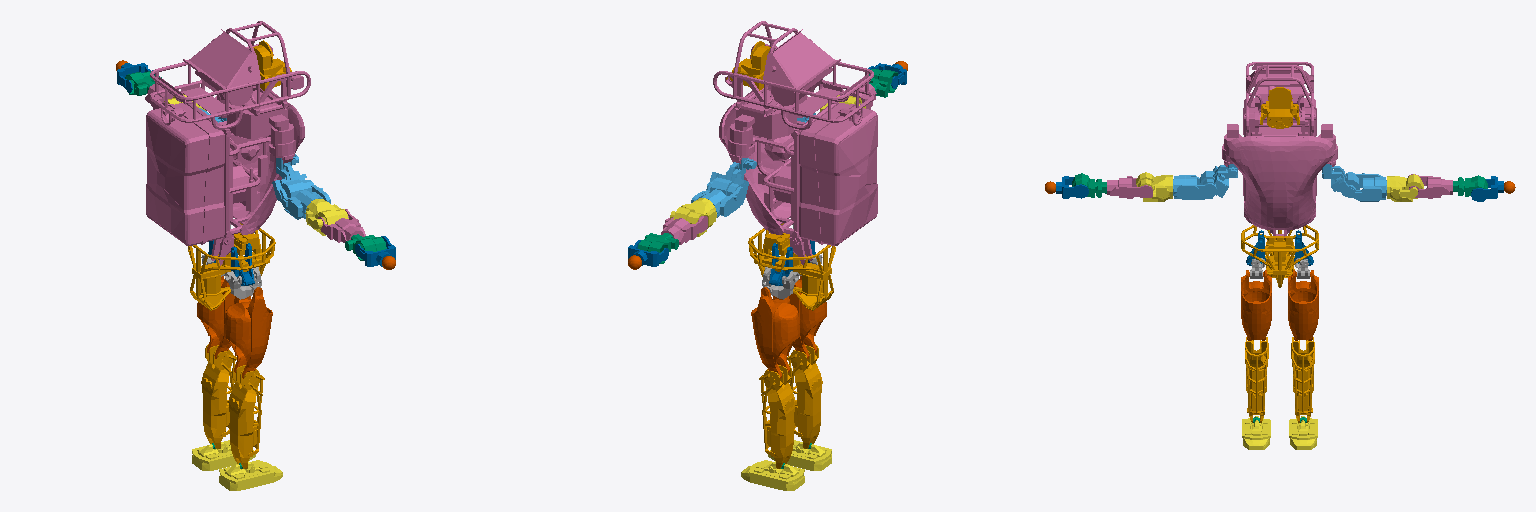
--- Facts derived from the render (not from the file) ---
The picture shows the robot from 3 angles, left to right: view 1: azimuth 30°, elevation 25°; view 2: azimuth 150°, elevation 25°; view 3: azimuth 270°, elevation 25°; orthographic projection.
Model atlas with 31 links and 30 joints (30 revolute), rooted at pelvis, posed all joints at 0.
Links seen in each view (by area): view 1: utorso, pelvis, r_uleg, r_lleg, l_lleg, r_foot, l_uleg, r_scap, l_foot, r_uarm, r_clav, head (+4 smaller); view 2: utorso, pelvis, l_uleg, l_lleg, r_lleg, l_foot, r_uleg, r_foot, l_scap, l_clav, head, l_uarm (+4 smaller); view 3: utorso, pelvis, l_uleg, r_uleg, l_lleg, r_lleg, head, l_scap, r_scap, l_foot, r_foot, l_uarm (+5 smaller).
Link boxes in pixels (x1,y1,x2,y2): utorso: (146, 21, 310, 245); pelvis: (188, 223, 275, 310); r_uleg: (224, 287, 272, 378); r_lleg: (228, 364, 264, 468); l_lleg: (201, 344, 236, 448); r_foot: (219, 460, 282, 490); l_uleg: (197, 276, 234, 358); r_scap: (272, 180, 330, 219); l_foot: (192, 440, 255, 470); r_uarm: (305, 199, 348, 235); r_clav: (276, 154, 311, 197); head: (253, 40, 291, 90); utorso: (713, 21, 877, 245); pelvis: (748, 223, 835, 310); l_uleg: (751, 287, 799, 378); l_lleg: (759, 364, 795, 468); r_lleg: (787, 344, 822, 448); l_foot: (741, 460, 804, 490); r_uleg: (789, 276, 826, 358); r_foot: (768, 440, 831, 470); l_scap: (691, 172, 745, 217); l_clav: (710, 158, 756, 197); head: (726, 41, 770, 90); l_uarm: (670, 198, 716, 236); utorso: (1222, 62, 1337, 229); pelvis: (1241, 225, 1318, 287); l_uleg: (1288, 270, 1318, 340); r_uleg: (1241, 270, 1271, 340); l_lleg: (1291, 337, 1314, 422); r_lleg: (1245, 337, 1268, 422); head: (1260, 87, 1299, 128); l_scap: (1339, 172, 1386, 201); r_scap: (1173, 166, 1217, 199); l_foot: (1289, 416, 1317, 449); r_foot: (1242, 416, 1270, 449); l_uarm: (1387, 174, 1423, 201).
Bounding box of the posed robot: 0.6238 × 2.26 × 1.98 m (x, y, z).
Meshes: 23 distinct files referenced, 29 mesh visuals loaded (23 Collada DAE).

robot.urdf — atlas:
<?xml version="1.0"?>
<robot name="atlas">

<!-- head from multisense_sl_v4.urdf -->

  <link name="head">
    <inertial>
      <origin xyz="-0.075493 3.3383E-05 0.02774" rpy="0 0 0" />
      <mass value="1.41984" />
      <inertia iyy="0.0041178" ixy="-1.5797E-06" iyz="-6.8415E-07" ixx="0.0039688" ixz="-0.00089293" izz="0.0035243" />
    </inertial>
    <visual>
      <origin xyz="0 0 0" rpy="0 0 0" />
      <geometry>
        <mesh filename="package://meshes/head.dae" />
      </geometry>
    </visual>
  <collision>
    <origin xyz="-0.0503 0 -0.00195" rpy="0 0 0" />
    <geometry>
      <box size="0.1311 0.12 0.0591"/>
    </geometry>
  </collision>
  <collision>
    <origin xyz="-0.093 0 0.0868" rpy="0 0 0" />
    <geometry>
      <box size="0.0468 0.12 0.1184"/>
    </geometry>
  </collision>
  </link>



<!-- from atlas_v4_simple_shapes.urdf -->

  <link name="l_clav">
    <inertial>
      <mass value="4.466"/>
      <origin rpy="0 -0 0" xyz="0 -0.048 -0.084"/>
      <inertia ixx="0.011" ixy="0" ixz="0" iyy="0.009" iyz="0.004" izz="0.004"/>
    </inertial>
    <visual>
      <geometry>
        <mesh filename="package://meshes/r_clav.dae" scale="1 1 1"/>
      </geometry>
    </visual>
    <collision>
      <origin rpy="0 1.5707963267949 0" xyz="0 -0.11 -0.248"/>
      <geometry>
        <cylinder length="0.1525" radius="0.0555"/>
      </geometry>
    </collision>
    <collision>
      <origin rpy="0 0 0" xyz="0.005 -0.015 -0.08"/>
      <geometry>
        <cylinder length="0.26" radius="0.067"/>
      </geometry>
    </collision>
    <collision>
      <origin rpy="1.05 0 0" xyz="0.004 -0.064 -0.247"/>
      <geometry>
        <box size="0.1 0.07 0.072"/>
      </geometry>
    </collision>
  </link>
  <link name="l_ufarm">
    <inertial>
      <mass value="4.386"/>
      <origin rpy="0 -0 0" xyz="0 0.065 0"/>
      <inertia ixx="0.00656" ixy="0" ixz="0" iyy="0.00358" iyz="0" izz="0.00656"/>
    </inertial>
    <visual>
      <geometry>
        <mesh filename="package://meshes/r_farm.dae" scale="1 1 1"/>
      </geometry>
    </visual>
    <collision>
      <origin rpy="0 1.5708 0" xyz="0.0 -0.13 0.004"/>
      <geometry>
        <cylinder length="0.125" radius="0.045"/>
      </geometry>
    </collision>
    <collision>
      <origin rpy="0 0 0" xyz="0.001 -0.053 -0.002"/>
      <geometry>
        <box size="0.135 0.1 0.045"/>
      </geometry>
    </collision>
  </link>
  <link name="l_foot">
    <inertial>
      <mass value="2.41"/>
      <origin rpy="0 -0 0" xyz="0.027 0 -0.067"/>
      <inertia ixx="0.002" ixy="0" ixz="0" iyy="0.007" iyz="0" izz="0.008"/>
    </inertial>
    <visual>
      <geometry>
        <mesh filename="package://meshes/l_foot.dae" scale="1 1 1"/>
      </geometry>
    </visual>
    <collision>
      <origin rpy="0 0 0" xyz="0.023 0 -0.049119"/>
      <geometry>
        <box size="0.227 0.133887 0.05"/>
      </geometry>
    </collision>
    <collision>
      <origin rpy="0 0 0" xyz="0.1225 0 -0.0641"/>
      <geometry>
        <box size="0.1 0.08 0.02"/>
      </geometry>
    </collision>
  </link>
  <link name="l_lfarm">
    <inertial>
      <mass value="2.509"/>
      <origin rpy="0 -0 0" xyz="0 0 0"/>
      <inertia ixx="0.00265" ixy="0" ixz="0" iyy="0.00446" iyz="0" izz="0.00446"/>
    </inertial>
    <visual>
      <geometry>
        <mesh filename="package://meshes/r_hand.dae" scale="1 1 1"/>
      </geometry>
      <origin rpy="0 3.14159265359 0" xyz="0 0 0"/>
    </visual>
    <collision>
      <origin rpy="1.5707963267949 0 0" xyz="0.001 -0.1 -0.01"/>
      <geometry>
        <cylinder length="0.05" radius="0.03"/>
      </geometry>
    </collision>
    <collision>
      <origin rpy="0 0 0" xyz="0.001 -0.05 -0.01"/>
      <geometry>
        <box size="0.13 0.09 0.07"/>
      </geometry>
    </collision>
  </link>
  <link name="l_hand">
    <inertial>
      <mass value="1.0"/><!-- some mass required here for simulation stability -->
      <origin rpy="0 0 0" xyz="0 0 0"/>
      <inertia ixx="0.0001" ixy="0" ixz="0" iyy="0.0001" iyz="0" izz="0.0001"/>
    </inertial>
    <visual>
      <origin rpy="0 0 0" xyz="0 -0.15 0.01"/>
      <geometry>
        <sphere radius="0.03"/>
      </geometry>
    </visual>
    <collision>
      <origin rpy="0 0 0" xyz="0 -0.15 0.01"/>
      <geometry>
        <sphere radius="0.03"/>
      </geometry>
    </collision>
  </link>
  <link name="l_larm">
    <inertial>
      <mass value="3.248"/>
      <origin rpy="0 -0 0" xyz="0 0 0"/>
      <inertia ixx="0.00265" ixy="0" ixz="0" iyy="0.00446" iyz="0" izz="0.00446"/>
    </inertial>
    <visual>
      <geometry>
        <mesh filename="package://meshes/r_larm.dae" scale="1 1 1"/>
      </geometry>
    </visual>
    <collision>
      <origin rpy="1.5707963267949 0 0" xyz="0.001 -0.127 0.00"/>
      <geometry>
        <cylinder length="0.125" radius="0.045"/>
      </geometry>
    </collision>
    <collision>
      <origin rpy="0 0 0" xyz="0.001 -0.051 0.0"/>
      <geometry>
        <box size="0.135 0.15 0.06"/>
      </geometry>
    </collision>
  </link>
  <link name="l_lglut">
    <inertial>
      <mass value="0.898"/>
      <origin rpy="0 -0 0" xyz="0.0133341 0.0170484 -0.0312052"/>
      <inertia ixx="0.000691326" ixy="-2.24344e-05" ixz="2.50508e-06" iyy="0.00126856" iyz="0.000137862" izz="0.00106487"/>
    </inertial>
    <visual>
      <geometry>
        <mesh filename="package://meshes/l_lglut.dae" scale="1 1 1"/>
      </geometry>
    </visual>
    <collision>
      <origin rpy="0 0 0" xyz="0.015 0.026 -0.028"/>
      <geometry>
        <box size="0.125 0.05 0.08"/>
      </geometry>
    </collision>
    <collision>
      <origin rpy="1.5707963267949 0 0" xyz="0.05 0.027488 -0.067"/>
      <geometry>
        <cylinder length="0.060306" radius="0.02009687"/>
      </geometry>
    </collision>
    <collision>
      <origin rpy="0 1.5707963267949 0" xyz="0.0115 0 0"/>
      <geometry>
        <cylinder length="0.144" radius="0.02"/>
      </geometry>
    </collision>
  </link>
  <link name="l_lleg">
    <inertial>
      <mass value="4.515"/>
      <origin rpy="0 -0 0" xyz="0.001 0 -0.187"/>
      <inertia ixx="0.077" ixy="0" ixz="-0.003" iyy="0.076" iyz="0" izz="0.01"/>
    </inertial>
    <visual>
      <geometry>
        <mesh filename="package://meshes/l_lleg.dae" scale="1 1 1"/>
      </geometry>
    </visual>
    <collision>
      <origin rpy="0 0.10 0" xyz="0.02 0.00295 -0.182"/>
      <geometry>
        <cylinder length="0.40" radius="0.07"/>
      </geometry>
    </collision>
  </link>
  <link name="l_scap">
    <inertial>
      <mass value="3.899"/>
      <origin rpy="0 -0 0" xyz="0 0 0"/>
      <inertia ixx="0.00319" ixy="0" ixz="0" iyy="0.00583" iyz="0" izz="0.00583"/>
    </inertial>
    <visual>
      <geometry>
        <mesh filename="package://meshes/r_scap.dae" scale="1 1 1"/>
      </geometry>
    </visual>
    <collision>
      <origin rpy="1.5707963267949 0 0" xyz="-0.005 -0.115 -0.014"/>
      <geometry>
        <cylinder length="0.105" radius="0.057"/>
      </geometry>
    </collision>
    <collision>
      <origin rpy="0 0 0" xyz="-0.005 -0.075 -0.015"/>
      <geometry>
        <box size="0.16 0.17 0.08"/>
      </geometry>
    </collision>
    <collision>
      <origin rpy="2.25 0 0" xyz="0.076 -0.0615 0.0128"/>
      <geometry>
        <box size="0.02 0.029 0.018"/>
      </geometry>
    </collision>
    <collision>
      <origin rpy="1 0 0" xyz="-0.075 0.015 0.019"/>
      <geometry>
        <box size="0.028 0.090 0.05"/>
      </geometry>
    </collision>
  </link>
  <link name="l_talus">
    <inertial>
      <mass value="0.125"/>
      <origin rpy="0 -0 0" xyz="0 0 0"/>
      <inertia ixx="1.01674e-05" ixy="0" ixz="0" iyy="8.42775e-06" iyz="0" izz="1.30101e-05"/>
    </inertial>
    <visual>
      <geometry>
        <mesh filename="package://meshes/l_talus.dae" scale="1 1 1"/>
      </geometry>
    </visual>
    <collision>
      <origin rpy="0 1.5707963267949 0" xyz="0 0 0"/>
      <geometry>
        <cylinder length="0.029542" radius="0.010181"/>
      </geometry>
    </collision>
    <collision>
      <origin rpy="1.5707963267949 0 0" xyz="0 0 0"/>
      <geometry>
        <cylinder length="0.010059" radius="0.010348"/>
      </geometry>
    </collision>
  </link>
  <link name="l_uarm">
    <inertial>
      <mass value="4.386"/>
      <origin rpy="0 -0 0" xyz="0 0.065 0"/>
      <inertia ixx="0.00656" ixy="0" ixz="0" iyy="0.00358" iyz="0" izz="0.00656"/>
    </inertial>
    <visual>
      <geometry>
        <mesh filename="package://meshes/r_uarm.dae" scale="1 1 1"/>
      </geometry>
    </visual>
    <collision>
      <origin rpy="1.5708 0 0" xyz="0.0 -0.035 0.00"/>
      <geometry>
        <cylinder length="0.11" radius="0.065"/>
      </geometry>
    </collision>
    <collision>
      <origin rpy="0 1.5708 0" xyz="-0.005 -0.111 0.017"/>
      <geometry>
        <cylinder length="0.142" radius="0.047"/>
      </geometry>
    </collision>
    <collision>
      <origin rpy="0 1.5707963267949 0" xyz="-0.001 -0.043 0.01"/>
      <geometry>
        <box size="0.05 0.07 0.15"/>
      </geometry>
    </collision>
  </link>
  <link name="l_uglut">
    <inertial>
      <mass value="1.959"/>
      <origin rpy="0 -0 0" xyz="0.00529262 -0.00344732 0.00313046"/>
      <inertia ixx="0.00074276" ixy="-3.79607e-08" ixz="-2.79549e-05" iyy="0.000688179" iyz="-3.2735e-08" izz="0.00041242"/>
    </inertial>
    <visual>
      <geometry>
        <mesh filename="package://meshes/l_uglut.dae" scale="1 1 1"/>
      </geometry>
    </visual>
    <collision>
      <origin rpy="0.52539 0 0" xyz="0.01 0.005 0"/>
      <geometry>
        <box size="0.05 0.1 0.1"/>
      </geometry>
    </collision>
    <collision>
      <origin rpy="0 0 0" xyz="0 0 0"/>
      <geometry>
        <cylinder length="0.080842" radius="0.019841"/>
      </geometry>
    </collision>
  </link>
  <link name="l_uleg">
    <inertial>
      <mass value="8.204"/>
      <origin rpy="0 -0 0" xyz="0 0 -0.21"/>
      <inertia ixx="0.09" ixy="0" ixz="0" iyy="0.09" iyz="0" izz="0.02"/>
    </inertial>
    <visual>
      <geometry>
        <mesh filename="package://meshes/l_uleg.dae" scale="1 1 1"/>
      </geometry>
    </visual>
    <collision>
      <origin rpy="0 0 0" xyz="-0.0199 0.00585 -0.122"/>
      <geometry>
        <cylinder length="0.15" radius="0.09"/>
      </geometry>
    </collision>
    <collision>
      <origin rpy="0 -0.3 0" xyz="-0.032 -0.005 -0.224"/>
      <geometry>
        <cylinder length="0.15" radius="0.07"/>
      </geometry>
    </collision>
    <!-- to cover the logo shield -->
    <collision>
      <origin rpy="-0.15 0.13 0" xyz="0.003 0.015 -0.254"/>
      <geometry>
        <cylinder length="0.15" radius="0.05"/>
      </geometry>
    </collision>
    <!-- inside strut -->
    <collision>
      <origin rpy="0.0 0.0 0" xyz="-0.007 -0.053 -0.052"/>
      <geometry>
        <box size="0.07 0.038 0.15"/>
      </geometry>
    </collision>
    <!-- outside strut -->
    <collision>
      <origin rpy="0.0 0.0 0" xyz="-0.017 0.0595 -0.049"/>
      <geometry>
        <box size="0.07 0.038 0.14"/>
      </geometry>
    </collision>
  </link>
  <link name="ltorso">
    <inertial>
      <mass value="2.270"/>
      <origin rpy="0 -0 0" xyz="-0.0112984 -3.15366e-06 0.0746835"/>
      <inertia ixx="0.0039092" ixy="-5.04491e-08" ixz="-0.000342157" iyy="0.00341694" iyz="4.87119e-07" izz="0.00174492"/>
    </inertial>
    <visual>
      <geometry>
        <mesh filename="package://meshes/ltorso.dae" scale="1 1 1"/>
      </geometry>
    </visual>
    <!-- this produces unwanted self-collision -->
    <!--collision>
      <origin rpy="0 0 0" xyz="0 0 0"/>
      <geometry>
        <sphere radius="0.11"/>
      </geometry>
    </collision-->
  </link>
  <link name="mtorso">
    <inertial>
      <mass value="0.799"/>
      <origin rpy="0 -0 0" xyz="-0.00816266 -0.0131245 0.0305974"/>
      <inertia ixx="0.000454181" ixy="-6.10764e-05" ixz="3.94009e-05" iyy="0.000483282" iyz="5.27463e-05" izz="0.000444215"/>
    </inertial>
    <visual>
      <geometry>
        <mesh filename="package://meshes/mtorso.dae" scale="1 1 1"/>
      </geometry>
    </visual>
    <collision>
      <origin rpy="0 0 0" xyz="0.0 0 0.02"/>
      <geometry>
        <cylinder length="0.15" radius="0.02"/>
      </geometry>
    </collision>
  </link>
  <link name="pelvis">
    <inertial>
      <mass value="9.509"/>
      <origin rpy="0 -0 0" xyz="0.0111 0 0.0271"/>
      <inertia ixx="0.1244" ixy="0.0008" ixz="-0.0007" iyy="0.0958" iyz="-0.0005" izz="0.1167"/>
    </inertial>
    <visual>
      <geometry>
        <mesh filename="package://meshes/pelvis.dae" scale="1 1 1"/>
      </geometry>
    </visual>
    <collision>
      <origin rpy="1.5707963267949 0 0" xyz="0.046 0.0 0.01"/>
      <geometry>
        <cylinder length="0.06" radius="0.11"/>
      </geometry>
    </collision>
    <collision>
      <origin rpy="1.5707963267949 0 0" xyz="-0.03 0.0 0.01"/>
      <geometry>
        <cylinder length="0.06" radius="0.11"/>
      </geometry>
    </collision>
    <collision>
      <origin rpy="0 0 0" xyz="0.01 0.042 0.09"/>
      <geometry>
        <cylinder length="0.05" radius="0.16"/>
      </geometry>
    </collision>
    <collision>
      <origin rpy="0 0 0" xyz="0.01 -0.042 0.09"/>
      <geometry>
        <cylinder length="0.05" radius="0.16"/>
      </geometry>
    </collision>
    <collision>
      <origin rpy="0 0 0" xyz="-0.1 0 -0.02"/>
      <geometry>
        <box size="0.1 0.15 0.2"/>
      </geometry>
    </collision>
  </link>
  <link name="r_clav">
    <inertial>
      <mass value="4.466"/>
      <origin rpy="0 -0 0" xyz="0 -0.048 -0.084"/>
      <inertia ixx="0.011" ixy="0" ixz="0" iyy="0.009" iyz="0.004" izz="0.004"/>
    </inertial>
    <visual>
      <geometry>
        <mesh filename="package://meshes/r_clav.dae" scale="1 1 1"/>
      </geometry>
    </visual>
    <collision>
      <origin rpy="0 1.5707963267949 0" xyz="0 -0.11 -0.248"/>
      <geometry>
        <cylinder length="0.1525" radius="0.0555"/>
      </geometry>
    </collision>
    <collision>
      <origin rpy="0 0 0" xyz="0.005 -0.015 -0.08"/>
      <geometry>
        <cylinder length="0.26" radius="0.067"/>
      </geometry>
    </collision>
    <collision>
      <origin rpy="1.05 0 0" xyz="0.004 -0.064 -0.247"/>
      <geometry>
        <box size="0.1 0.07 0.072"/>
      </geometry>
    </collision>
  </link>
  <link name="r_ufarm">
    <inertial>
      <mass value="4.386"/>
      <origin rpy="0 -0 0" xyz="0 0.065 0"/>
      <inertia ixx="0.00656" ixy="0" ixz="0" iyy="0.00358" iyz="0" izz="0.00656"/>
    </inertial>
    <visual>
      <geometry>
        <mesh filename="package://meshes/r_farm.dae" scale="1 1 1"/>
      </geometry>
    </visual>
    <collision>
      <origin rpy="0 1.5708 0" xyz="0.0 -0.13 0.004"/>
      <geometry>
        <cylinder length="0.125" radius="0.045"/>
      </geometry>
    </collision>
    <collision>
      <origin rpy="0 0 0" xyz="0.001 -0.053 -0.002"/>
      <geometry>
        <box size="0.135 0.1 0.045"/>
      </geometry>
    </collision>
  </link>
  <link name="r_foot">
    <inertial>
      <mass value="2.41"/>
      <origin rpy="0 -0 0" xyz="0.027 0 -0.067"/>
      <inertia ixx="0.002" ixy="0" ixz="0" iyy="0.007" iyz="0" izz="0.008"/>
    </inertial>
    <visual>
      <geometry>
        <mesh filename="package://meshes/r_foot.dae" scale="1 1 1"/>
      </geometry>
    </visual>
    <collision>
      <origin rpy="0 0 0" xyz="0.023 0 -0.049119"/>
      <geometry>
        <box size="0.227 0.133887 0.05"/>
      </geometry>
    </collision>
    <collision>
      <origin rpy="0 0 0" xyz="0.1225 0 -0.0641"/>
      <geometry>
        <box size="0.1 0.08 0.02"/>
      </geometry>
    </collision>
  </link>
  <link name="r_lfarm">
    <inertial>
      <mass value="2.509"/>
      <origin rpy="0 -0 0" xyz="0 0 0"/>
      <inertia ixx="0.00265" ixy="0" ixz="0" iyy="0.00446" iyz="0" izz="0.00446"/>
    </inertial>
    <visual>
      <geometry>
        <mesh filename="package://meshes/r_hand.dae" scale="1 1 1"/>
      </geometry>
      <origin rpy="0 3.14159265359 0" xyz="0 0 0"/>
    </visual>
    <collision>
      <origin rpy="1.5707963267949 0 0" xyz="0.001 -0.1 -0.01"/>
      <geometry>
        <cylinder length="0.05" radius="0.03"/>
      </geometry>
    </collision>
    <collision>
      <origin rpy="0 0 0" xyz="0.001 -0.05 -0.01"/>
      <geometry>
        <box size="0.13 0.09 0.07"/>
      </geometry>
    </collision>
  </link>
  <link name="r_hand">
    <inertial>
      <mass value="1.0"/><!-- some mass required here for simulation stability -->
      <origin rpy="0 0 0" xyz="0 0 0"/>
      <inertia ixx="0.0001" ixy="0" ixz="0" iyy="0.0001" iyz="0" izz="0.0001"/>
    </inertial>
    <visual>
      <origin rpy="0 0 0" xyz="0 -0.15 -0.01"/>
      <geometry>
        <sphere radius="0.03"/>
      </geometry>
    </visual>
    <collision>
      <origin rpy="0 0 0" xyz="0 -0.15 -0.01"/>
      <geometry>
        <sphere radius="0.03"/>
      </geometry>
    </collision>
  </link>
  <link name="r_larm">
    <inertial>
      <mass value="3.248"/>
      <origin rpy="0 -0 0" xyz="0 0 0"/>
      <inertia ixx="0.00265" ixy="0" ixz="0" iyy="0.00446" iyz="0" izz="0.00446"/>
    </inertial>
    <visual>
      <geometry>
        <mesh filename="package://meshes/r_larm.dae" scale="1 1 1"/>
      </geometry>
    </visual>
    <collision>
      <origin rpy="1.5707963267949 0 0" xyz="0.001 -0.127 0.00"/>
      <geometry>
        <cylinder length="0.125" radius="0.045"/>
      </geometry>
    </collision>
    <collision>
      <origin rpy="0 0 0" xyz="0.001 -0.051 0.0"/>
      <geometry>
        <box size="0.135 0.15 0.06"/>
      </geometry>
    </collision>
  </link>
  <link name="r_lglut">
    <inertial>
      <mass value="0.898"/>
      <origin rpy="0 -0 0" xyz="0.0133341 -0.0170484 -0.0312052"/>
      <inertia ixx="0.000691326" ixy="2.24344e-05" ixz="2.50508e-06" iyy="0.00126856" iyz="-0.000137862" izz="0.00106487"/>
    </inertial>
    <collision>
      <origin rpy="0 0 0" xyz="0.015 -0.026 -0.028"/>
      <geometry>
        <box size="0.125 0.05 0.08"/>
      </geometry>
    </collision>
    <visual>
      <geometry>
        <mesh filename="package://meshes/r_lglut.dae" scale="1 1 1"/>
      </geometry>
    </visual>
    <collision>
      <origin rpy="1.5707963267949 0 0" xyz="0.05 -0.027488 -0.067"/>
      <geometry>
        <cylinder length="0.060306" radius="0.02009687"/>
      </geometry>
    </collision>
    <collision>
      <origin rpy="0 1.5707963267949 0" xyz="0.0105 0 0"/>
      <geometry>
        <cylinder length="0.142" radius="0.02"/>
      </geometry>
    </collision>
  </link>
  <link name="r_lleg">
    <inertial>
      <mass value="4.515"/>
      <origin rpy="0 -0 0" xyz="0.001 0 -0.187"/>
      <inertia ixx="0.077" ixy="-0" ixz="-0.003" iyy="0.076" iyz="-0" izz="0.01"/>
    </inertial>
    <visual>
      <geometry>
        <mesh filename="package://meshes/r_lleg.dae" scale="1 1 1"/>
      </geometry>
    </visual>
    <collision>
      <origin rpy="0 0.10 0" xyz="0.02 -0.00295 -0.182"/>
      <geometry>
        <cylinder length="0.40" radius="0.07"/>
      </geometry>
    </collision>
  </link>
  <link name="r_scap">
    <inertial>
      <mass value="3.899"/>
      <origin rpy="0 -0 0" xyz="0 0 0"/>
      <inertia ixx="0.00319" ixy="0" ixz="0" iyy="0.00583" iyz="0" izz="0.00583"/>
    </inertial>
    <visual>
      <geometry>
        <mesh filename="package://meshes/r_scap.dae" scale="1 1 1"/>
      </geometry>
    </visual>
    <collision>
      <origin rpy="1.5707963267949 0 0" xyz="-0.005 -0.115 -0.014"/>
      <geometry>
        <cylinder length="0.105" radius="0.057"/>
      </geometry>
    </collision>
    <collision>
      <origin rpy="0 0 0" xyz="-0.005 -0.075 -0.015"/>
      <geometry>
        <box size="0.16 0.17 0.08"/>
      </geometry>
    </collision>
    <collision>
      <origin rpy="2.25 0 0" xyz="0.076 -0.0615 0.0128"/>
      <geometry>
        <box size="0.02 0.029 0.018"/>
      </geometry>
    </collision>
    <collision>
      <origin rpy="1 0 0" xyz="-0.075 0.015 0.019"/>
      <geometry>
        <box size="0.028 0.090 0.05"/>
      </geometry>
    </collision>
  </link>
  <link name="r_talus">
    <inertial>
      <mass value="0.125"/>
      <origin rpy="0 -0 0" xyz="0 0 0"/>
      <inertia ixx="1.01674e-05" ixy="0" ixz="0" iyy="8.42775e-06" iyz="0" izz="1.30101e-05"/>
    </inertial>
    <visual>
      <geometry>
        <mesh filename="package://meshes/r_talus.dae" scale="1 1 1"/>
      </geometry>
    </visual>
    <collision>
      <origin rpy="0 1.5707963267949 0" xyz="0 0 0"/>
      <geometry>
        <cylinder length="0.029542" radius="0.010181"/>
      </geometry>
    </collision>
    <collision>
      <origin rpy="1.5707963267949 0 0" xyz="0 0 0"/>
      <geometry>
        <cylinder length="0.010059" radius="0.010348"/>
      </geometry>
    </collision>
  </link>
  <link name="r_uarm">
    <inertial>
      <mass value="4.386"/>
      <origin rpy="0 -0 0" xyz="0 0.065 0"/>
      <inertia ixx="0.00656" ixy="0" ixz="0" iyy="0.00358" iyz="0" izz="0.00656"/>
    </inertial>
    <visual>
      <geometry>
        <mesh filename="package://meshes/r_uarm.dae" scale="1 1 1"/>
      </geometry>
    </visual>
    <collision>
      <origin rpy="1.5708 0 0" xyz="0.0 -0.035 0.00"/>
      <geometry>
        <cylinder length="0.11" radius="0.065"/>
      </geometry>
    </collision>
    <collision>
      <origin rpy="0 1.5708 0" xyz="-0.005 -0.111 0.017"/>
      <geometry>
        <cylinder length="0.142" radius="0.047"/>
      </geometry>
    </collision>
    <collision>
      <origin rpy="0 1.5707963267949 0" xyz="-0.001 -0.043 0.01"/>
      <geometry>
        <box size="0.05 0.07 0.15"/>
      </geometry>
    </collision>
  </link>
  <link name="r_uglut">
    <inertial>
      <mass value="1.959"/>
      <origin rpy="0 -0 0" xyz="0.00529262 0.00344732 0.00313046"/>
      <inertia ixx="0.00074276" ixy="3.79607e-08" ixz="-2.79549e-05" iyy="0.000688179" iyz="3.2735e-08" izz="0.00041242"/>
    </inertial>
    <visual>
      <geometry>
        <mesh filename="package://meshes/r_uglut.dae" scale="1 1 1"/>
      </geometry>
    </visual>
    <collision>
      <origin rpy="-0.52539 0 0" xyz="0.01 -0.005 0"/>
      <geometry>
        <box size="0.05 0.1 0.1"/>
      </geometry>
    </collision>
    <collision>
      <origin rpy="0 0 0" xyz="0 0 0"/>
      <geometry>
        <cylinder length="0.080842" radius="0.019841"/>
      </geometry>
    </collision>
  </link>
  <link name="r_uleg">
    <inertial>
      <mass value="8.204"/>
      <origin rpy="0 -0 0" xyz="0 0 -0.21"/>
      <inertia ixx="0.09" ixy="0" ixz="0" iyy="0.09" iyz="0" izz="0.02"/>
    </inertial>
    <visual>
      <geometry>
        <mesh filename="package://meshes/r_uleg.dae" scale="1 1 1"/>
      </geometry>
    </visual>
    <collision>
      <origin rpy="0 0 0" xyz="-0.0199 -0.00585 -0.122"/>
      <geometry>
        <cylinder length="0.15" radius="0.09"/>
      </geometry>
    </collision>
    <collision>
      <origin rpy="0 -0.3 0" xyz="-0.032 0.005 -0.224"/>
      <geometry>
        <cylinder length="0.15" radius="0.07"/>
      </geometry>
    </collision>
    <!-- to cover the logo shield -->
    <collision>
      <origin rpy="0.15 0.13 0" xyz="0.003 -0.015 -0.254"/>
      <geometry>
        <cylinder length="0.15" radius="0.05"/>
      </geometry>
    </collision>
    <!-- inside strut -->
    <collision>
      <origin rpy="0.0 0.0 0" xyz="-0.007 0.053 -0.052"/>
      <geometry>
        <box size="0.07 0.038 0.15"/>
      </geometry>
    </collision>
    <!-- outside strut -->
    <collision>
      <origin rpy="0.0 0.0 0" xyz="-0.017 -0.0595 -0.049"/>
      <geometry>
        <box size="0.07 0.038 0.14"/>
      </geometry>
    </collision>
  </link>
  <!-- with backpack -->
  <link name="utorso">
    <inertial>
      <mass value="84.409"/>
      <origin rpy="0 -0 0" xyz="-0.0622 0.0023 0.3157"/>
      <inertia ixx="1.577" ixy="-0.032" ixz="0.102" iyy="1.602" iyz="0.047" izz="0.565"/>
    </inertial>
    <visual>
      <geometry>
        <mesh filename="package://meshes/utorso.dae" scale="1 1 1"/>
      </geometry>
    </visual>
    <collision>
      <origin rpy="0 0 0" xyz="-0.102 0 0.25"/>
      <geometry>
        <box size="0.4 0.35 0.5"/>
      </geometry>
    </collision>
    <collision>
      <origin rpy="0 1.5707 0" xyz="0.2 0 0.46"/>
      <geometry>
        <box size="0.13 0.50 0.10"/>
      </geometry>
    </collision>
    <collision>
      <origin rpy="0 1.7 0" xyz="0.2 0 0.285"/>
      <geometry>
        <box size="0.2 0.23 0.10"/>
      </geometry>
    </collision>
    <collision>
      <origin rpy="0 2.0 0" xyz="0.15 0 0.10"/>
      <geometry>
        <box size="0.2 0.18 0.10"/>
      </geometry>
    </collision>
    <collision>
      <origin rpy="0 0 0" xyz="-0.035 0 0.6265"/>
      <geometry>
        <box size="0.506306 0.341719 0.12"/>
      </geometry>
    </collision>
    <collision>
      <origin rpy="1.5707 0 0" xyz="0.208 0 0.8215"/>
      <geometry>
        <cylinder length="0.13" radius="0.008"/>
      </geometry>
    </collision>
    <collision>
      <origin rpy="-0.38535 0 0" xyz="0.208 -0.125 0.745"/>
      <geometry>
        <cylinder length="0.15" radius="0.008"/>
      </geometry>
    </collision>
    <collision>
      <origin rpy="0.38535 0 0" xyz="0.208 0.125 0.745"/>
      <geometry>
        <cylinder length="0.15" radius="0.008"/>
      </geometry>
    </collision>
    <collision>
      <origin rpy="-0.38535 0 0" xyz="0.063 -0.125 0.745"/>
      <geometry>
        <cylinder length="0.15" radius="0.008"/>
      </geometry>
    </collision>
    <collision>
      <origin rpy="0.38535 0 0" xyz="0.063 0.125 0.745"/>
      <geometry>
        <cylinder length="0.15" radius="0.008"/>
      </geometry>
    </collision>
    <collision>
      <origin rpy="1.5707 0 1.5707" xyz="0.14 0.06 0.8215"/>
      <geometry>
        <cylinder length="0.15" radius="0.008"/>
      </geometry>
    </collision>
    <collision>
      <origin rpy="1.5707 0 1.5707" xyz="0.14 -0.06 0.8215"/>
      <geometry>
        <cylinder length="0.15" radius="0.008"/>
      </geometry>
    </collision>
    <collision>
      <origin rpy="0 -0.65 0" xyz="-0.029 0 0.731"/>
      <geometry>
        <box size="0.2 0.25 0.01"/>
      </geometry>
    </collision>
    <collision>
      <origin rpy="1.5707 0 0" xyz="0.063 0 0.8215"/>
      <geometry>
        <cylinder length="0.13" radius="0.008"/>
      </geometry>
    </collision>
    <collision>
      <origin rpy="1.5707 0 0" xyz="0.261 0.156 0.6215"/>
      <geometry>
        <cylinder length="0.016" radius="0.055"/>
      </geometry>
    </collision>
    <collision>
      <origin rpy="1.5707 0 0" xyz="0.261 -0.156 0.6215"/>
      <geometry>
        <cylinder length="0.016" radius="0.055"/>
      </geometry>
    </collision>
  </link>
  <joint name="back_bkx" type="revolute">
    <origin rpy="0 -0 0" xyz="0 0 0.05"/>
    <axis xyz="1 0 0"/>
    <parent link="mtorso"/>
    <child link="utorso"/>
    <dynamics damping="0.1" friction="0"/>
    <limit effort="300" lower="-0.523599" upper="0.523599" velocity="12"/>
    <safety_controller k_position="100" k_velocity="100" soft_lower_limit="-10.5236" soft_upper_limit="10.5236"/>
  </joint>
  <joint name="back_bky" type="revolute">
    <origin rpy="0 -0 0" xyz="0 0 0.162"/>
    <axis xyz="0 1 0"/>
    <parent link="ltorso"/>
    <child link="mtorso"/>
    <dynamics damping="0.1" friction="0"/>
    <limit effort="445" lower="-0.219388" upper="0.538783" velocity="9"/>
    <safety_controller k_position="100" k_velocity="100" soft_lower_limit="-10.2194" soft_upper_limit="10.5388"/>
  </joint>
  <joint name="back_bkz" type="revolute">
    <origin rpy="0 -0 0" xyz="-0.0125 0 0"/>
    <axis xyz="0 0 1"/>
    <parent link="pelvis"/>
    <child link="ltorso"/>
    <dynamics damping="0.1" friction="0"/>
    <limit effort="106" lower="-0.663225" upper="0.663225" velocity="12"/>
    <safety_controller k_position="100" k_velocity="100" soft_lower_limit="-10.6632" soft_upper_limit="10.6632"/>
  </joint>
  <joint name="l_arm_elx" type="revolute">
    <origin rpy="0 -0 0" xyz="0 -0.119 0.0092"/>
    <axis xyz="-1.0 -0.0 -0.0"/>
    <parent link="l_uarm"/>
    <child link="l_larm"/>
    <dynamics damping="0.2" friction="0"/>
    <limit effort="112" lower="0" upper="2.35619" velocity="12"/>
    <safety_controller k_position="100" k_velocity="100" soft_lower_limit="-10" soft_upper_limit="12.3562"/>
  </joint>
  <joint name="l_arm_ely" type="revolute">
    <origin rpy="0 -0 0" xyz="0 -0.187 -0.016"/>
    <axis xyz="-0.0 -1.0 -0.0"/>
    <parent link="l_scap"/>
    <child link="l_uarm"/>
    <dynamics damping="0.2" friction="0"/>
    <limit effort="63" lower="0" upper="3.14159" velocity="12"/>
    <safety_controller k_position="100" k_velocity="100" soft_lower_limit="-10" soft_upper_limit="13.1416"/>
  </joint>
  <joint name="l_arm_shx" type="revolute">
    <origin rpy="0 -0 0" xyz="0 -0.11 -0.245"/>
    <axis xyz="-1.0 -0.0 -0.0"/>
    <parent link="l_clav"/>
    <child link="l_scap"/>
    <dynamics damping="0.1" friction="0"/>
    <limit effort="99" lower="-1.5708" upper="1.5708" velocity="12"/>
    <safety_controller k_position="100" k_velocity="100" soft_lower_limit="-11.5708" soft_upper_limit="11.5708"/>
  </joint>
  <joint name="l_arm_shz" type="revolute">
    <origin rpy="0 0 3.14159265359" xyz="0.1406 0.2256 0.4776"/>
    <axis xyz="0 0 1"/>
    <parent link="utorso"/>
    <child link="l_clav"/>
    <dynamics damping="0.1" friction="0"/>
    <limit effort="87" lower="-1.5708" upper="0.785398" velocity="12"/>
    <safety_controller k_position="100" k_velocity="100" soft_lower_limit="-11.5708" soft_upper_limit="10.7854"/>
    <!-- note, this is opposite of v1 and v3 -->
  </joint>
  <joint name="l_arm_wrx" type="revolute">
    <origin rpy="0 -0 0" xyz="0 -0.119 0.0092"/>
    <axis xyz="1 0 0"/>
    <parent link="l_ufarm"/>
    <child link="l_lfarm"/>
    <dynamics damping="0.1" friction="0"/>
    <limit effort="25" lower="-1.1781" upper="1.1781" velocity="12"/>
    <safety_controller k_position="100" k_velocity="100" soft_lower_limit="-11.1781" soft_upper_limit="11.1781"/>
  </joint>
  <joint name="l_arm_wry" type="revolute">
    <origin rpy="0 3.14159265359 0" xyz="0 -0.187 -0.0092"/>
    <axis xyz="-0.0 -1.0 -0.0"/>
    <parent link="l_larm"/>
    <child link="l_ufarm"/>
    <dynamics damping="0.1" friction="0"/>
    <limit effort="25" lower="0" upper="3.14159" velocity="12"/>
    <safety_controller k_position="100" k_velocity="100" soft_lower_limit="-10" soft_upper_limit="13.1416"/>
  </joint>
  <joint name="l_arm_wry2" type="revolute">
    <origin rpy="0 3.14159265359 0" xyz="0 0 0"/>
    <axis xyz="0 1 0"/>
    <parent link="l_lfarm"/>
    <child link="l_hand"/>
    <dynamics damping="0.1" friction="0"/>
    <limit effort="5" lower="-0.001" upper="0.001" velocity="1"/>
    <safety_controller k_position="1" k_velocity="0.01" soft_lower_limit="0" soft_upper_limit="0.1"/>
  </joint>
  <joint name="l_leg_akx" type="revolute">
    <origin rpy="0 -0 0" xyz="0 0 0"/>
    <axis xyz="1 0 0"/>
    <parent link="l_talus"/>
    <child link="l_foot"/>
    <dynamics damping="0.1" friction="0"/>
    <!--limit effort="360" lower="-0.8" upper="0.8" velocity="12"/-->
    <limit effort="45" lower="-0.8" upper="0.8" velocity="12"/>
    <safety_controller k_position="100" k_velocity="100" soft_lower_limit="-10.8" soft_upper_limit="10.8"/>
  </joint>
  <joint name="l_leg_aky" type="revolute">
    <origin rpy="0 -0 0" xyz="0 0 -0.422"/>
    <axis xyz="0 1 0"/>
    <parent link="l_lleg"/>
    <child link="l_talus"/>
    <dynamics damping="0.1" friction="0"/>
    <!--limit effort="740" lower="-1" upper="0.7" velocity="12"/-->
    <limit effort="92" lower="-1" upper="0.7" velocity="12"/>
    <safety_controller k_position="100" k_velocity="100" soft_lower_limit="-11" soft_upper_limit="10.7"/>
  </joint>
  <joint name="l_leg_hpx" type="revolute">
    <origin rpy="0 -0 0" xyz="0 0 0"/>
    <axis xyz="1 0 0"/>
    <parent link="l_uglut"/>
    <child link="l_lglut"/>
    <dynamics damping="0.1" friction="0"/>
    <limit effort="530" lower="-0.523599" upper="0.523599" velocity="12"/>
    <safety_controller k_position="100" k_velocity="100" soft_lower_limit="-10.5236" soft_upper_limit="10.5236"/>
  </joint>
  <joint name="l_leg_hpy" type="revolute">
    <origin rpy="0 -0 0" xyz="0.05 0.0225 -0.066"/>
    <axis xyz="0 1 0"/>
    <parent link="l_lglut"/>
    <child link="l_uleg"/>
    <dynamics damping="0.1" friction="0"/>
    <limit effort="840" lower="-1.61234" upper="0.65764" velocity="12"/>
    <safety_controller k_position="100" k_velocity="100" soft_lower_limit="-11.6123" soft_upper_limit="10.6576"/>
  </joint>
  <joint name="l_leg_hpz" type="revolute">
    <origin rpy="0 -0 0" xyz="0 0.089 0"/>
    <axis xyz="0 0 1"/>
    <parent link="pelvis"/>
    <child link="l_uglut"/>
    <dynamics damping="0.1" friction="0"/>
    <limit effort="275" lower="-0.174358" upper="0.786794" velocity="12"/>
    <safety_controller k_position="100" k_velocity="100" soft_lower_limit="-10.1744" soft_upper_limit="10.7868"/>
  </joint>
  <joint name="l_leg_kny" type="revolute">
    <origin rpy="0 -0 0" xyz="-0.05 0 -0.374"/>
    <axis xyz="0 1 0"/>
    <parent link="l_uleg"/>
    <child link="l_lleg"/>
    <dynamics damping="0.2" friction="0"/>
    <limit effort="890" lower="0" upper="2.35637" velocity="12"/>
    <safety_controller k_position="100" k_velocity="100" soft_lower_limit="-10" soft_upper_limit="12.3564"/>
  </joint>
  <joint name="neck_ry" type="revolute">
    <origin rpy="0 -0 0" xyz="0.2546 0 0.6215"/>
    <axis xyz="0 1 0"/>
    <parent link="utorso"/>
    <child link="head"/>
    <dynamics damping="0.1" friction="0"/>
    <limit effort="5" lower="-0.602139" upper="1.14319" velocity="6.28"/>
    <safety_controller k_position="100" k_velocity="100" soft_lower_limit="-10.6021" soft_upper_limit="11.1432"/>
  </joint>
  <joint name="r_arm_elx" type="revolute">
    <origin rpy="0 -0 0" xyz="0 -0.119 0.0092"/>
    <axis xyz="1 0 0"/>
    <parent link="r_uarm"/>
    <child link="r_larm"/>
    <dynamics damping="0.2" friction="0"/>
    <limit effort="112" lower="-2.35619" upper="0" velocity="12"/>
    <safety_controller k_position="100" k_velocity="100" soft_lower_limit="-12.3562" soft_upper_limit="10"/>
  </joint>
  <joint name="r_arm_ely" type="revolute">
    <origin rpy="0 -0 0" xyz="0 -0.187 -0.016"/>
    <axis xyz="0 1 0"/>
    <parent link="r_scap"/>
    <child link="r_uarm"/>
    <dynamics damping="0.2" friction="0"/>
    <limit effort="63" lower="0" upper="3.14159" velocity="12"/>
    <safety_controller k_position="100" k_velocity="100" soft_lower_limit="-10" soft_upper_limit="13.1416"/>
  </joint>
  <joint name="r_arm_shx" type="revolute">
    <origin rpy="0 -0 0" xyz="0 -0.11 -0.245"/>
    <axis xyz="1 0 0"/>
    <parent link="r_clav"/>
    <child link="r_scap"/>
    <dynamics damping="0.1" friction="0"/>
    <limit effort="99" lower="-1.5708" upper="1.5708" velocity="12"/>
    <safety_controller k_position="100" k_velocity="100" soft_lower_limit="-11.5708" soft_upper_limit="11.5708"/>
  </joint>
  <joint name="r_arm_shz" type="revolute">
    <origin rpy="0 -0 0" xyz="0.1406 -0.2256 0.4776"/>
    <axis xyz="0 0 1"/>
    <!-- note, this is opposite of v1 and v3 -->
    <parent link="utorso"/>
    <child link="r_clav"/>
    <dynamics damping="0.1" friction="0"/>
    <limit effort="87" lower="-0.785398" upper="1.5708" velocity="12"/>
    <safety_controller k_position="100" k_velocity="100" soft_lower_limit="-10.7854" soft_upper_limit="11.5708"/>
  </joint>
  <joint name="r_arm_wrx" type="revolute">
    <origin rpy="0 -0 0" xyz="0 -0.119 0.0092"/>
    <axis xyz="1 0 0"/>
    <parent link="r_ufarm"/>
    <child link="r_lfarm"/>
    <dynamics damping="0.1" friction="0"/>
    <limit effort="25" lower="-1.1781" upper="1.1781" velocity="12"/>
    <safety_controller k_position="100" k_velocity="100" soft_lower_limit="-11.1781" soft_upper_limit="11.1781"/>
  </joint>
  <joint name="r_arm_wry" type="revolute">
    <origin rpy="0 -0 0" xyz="0 -0.187 -0.0092"/>
    <axis xyz="0 1 0"/>
    <parent link="r_larm"/>
    <child link="r_ufarm"/>
    <dynamics damping="0.1" friction="0"/>
    <limit effort="25" lower="0" upper="3.14159" velocity="12"/>
    <safety_controller k_position="100" k_velocity="100" soft_lower_limit="-10" soft_upper_limit="13.1416"/>
  </joint>
  <joint name="r_arm_wry2" type="revolute">
    <origin rpy="0 0 0" xyz="0 0 0"/>
    <axis xyz="0 1 0"/>
    <parent link="r_lfarm"/>
    <child link="r_hand"/>
    <dynamics damping="0.1" friction="0"/>
    <limit effort="5" lower="-0.001" upper="0.001" velocity="1"/>
    <safety_controller k_position="1" k_velocity="0.01" soft_lower_limit="0" soft_upper_limit="0.1"/>
  </joint>
  <joint name="r_leg_akx" type="revolute">
    <origin rpy="0 -0 0" xyz="0 0 0"/>
    <axis xyz="1 0 0"/>
    <parent link="r_talus"/>
    <child link="r_foot"/>
    <dynamics damping="0.1" friction="0"/>
    <!--limit effort="360" lower="-0.8" upper="0.8" velocity="12"/-->
    <limit effort="45" lower="-0.8" upper="0.8" velocity="12"/>
    <safety_controller k_position="100" k_velocity="100" soft_lower_limit="-10.8" soft_upper_limit="10.8"/>
  </joint>
  <joint name="r_leg_aky" type="revolute">
    <origin rpy="0 -0 0" xyz="0 0 -0.422"/>
    <axis xyz="0 1 0"/>
    <parent link="r_lleg"/>
    <child link="r_talus"/>
    <dynamics damping="0.1" friction="0"/>
    <!--limit effort="740" lower="-1" upper="0.7" velocity="12"/-->
    <limit effort="92" lower="-1" upper="0.7" velocity="12"/>
    <safety_controller k_position="100" k_velocity="100" soft_lower_limit="-11" soft_upper_limit="10.7"/>
  </joint>
  <joint name="r_leg_hpx" type="revolute">
    <origin rpy="0 -0 0" xyz="0 0 0"/>
    <axis xyz="1 0 0"/>
    <parent link="r_uglut"/>
    <child link="r_lglut"/>
    <dynamics damping="0.1" friction="0"/>
    <limit effort="530" lower="-0.523599" upper="0.523599" velocity="12"/>
    <safety_controller k_position="100" k_velocity="100" soft_lower_limit="-10.5236" soft_upper_limit="10.5236"/>
  </joint>
  <joint name="r_leg_hpy" type="revolute">
    <origin rpy="0 -0 0" xyz="0.05 -0.0225 -0.066"/>
    <axis xyz="0 1 0"/>
    <parent link="r_lglut"/>
    <child link="r_uleg"/>
    <dynamics damping="0.1" friction="0"/>
    <limit effort="840" lower="-1.61234" upper="0.65764" velocity="12"/>
    <safety_controller k_position="100" k_velocity="100" soft_lower_limit="-11.6123" soft_upper_limit="10.6576"/>
  </joint>
  <joint name="r_leg_hpz" type="revolute">
    <origin rpy="0 -0 0" xyz="0 -0.089 0"/>
    <axis xyz="0 0 1"/>
    <parent link="pelvis"/>
    <child link="r_uglut"/>
    <dynamics damping="0.1" friction="0"/>
    <limit effort="275" lower="-0.786794" upper="0.174358" velocity="12"/>
    <safety_controller k_position="100" k_velocity="100" soft_lower_limit="-10.7868" soft_upper_limit="10.1744"/>
  </joint>
  <joint name="r_leg_kny" type="revolute">
    <origin rpy="0 -0 0" xyz="-0.05 0 -0.374"/>
    <axis xyz="0 1 0"/>
    <parent link="r_uleg"/>
    <child link="r_lleg"/>
    <dynamics damping="0.2" friction="0"/>
    <limit effort="890" lower="0" upper="2.35637" velocity="12"/>
    <safety_controller k_position="100" k_velocity="100" soft_lower_limit="-10" soft_upper_limit="12.3564"/>
  </joint>
</robot>
